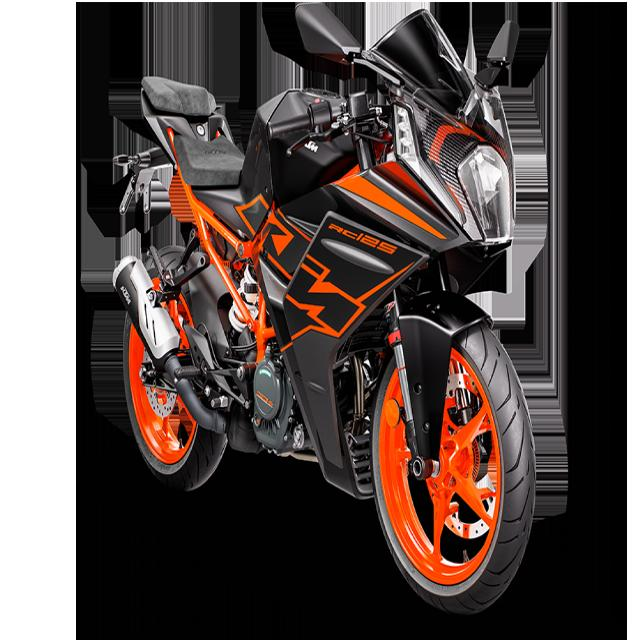motorcycle: (112, 4, 535, 612)
